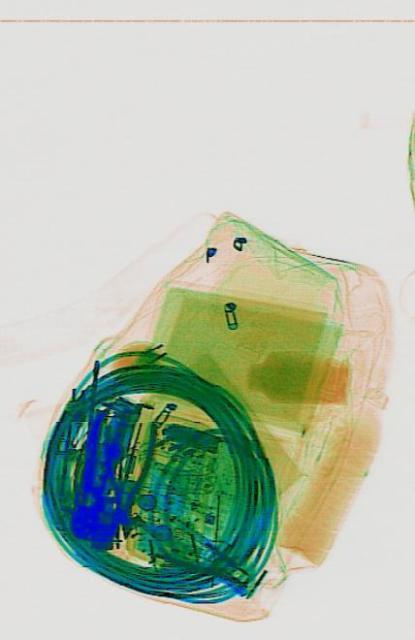Pliers: (96, 416, 154, 540)
